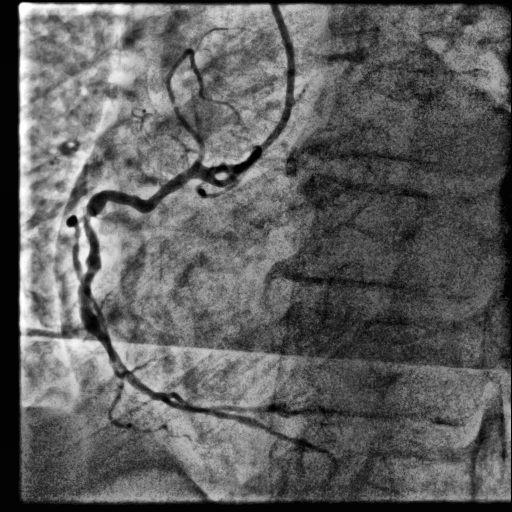pborca: (214, 405, 408, 419)
pda: (213, 413, 338, 471)
rca: (78, 149, 261, 414)
